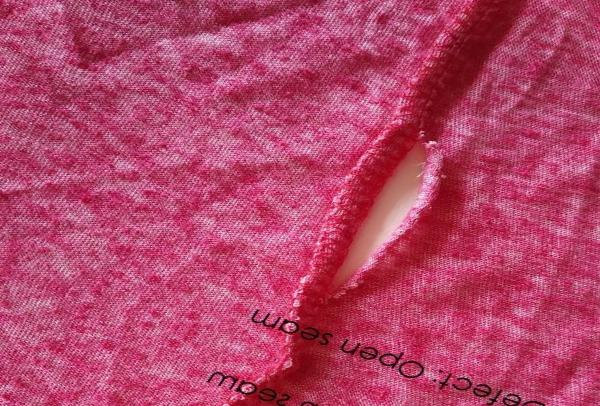hole: (322, 124, 451, 303)
